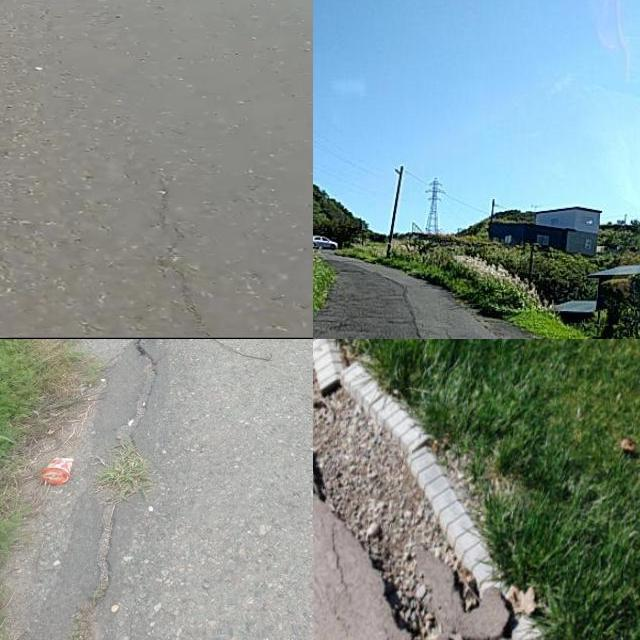Pinggir: (313, 339, 570, 640), (0, 339, 181, 640)
